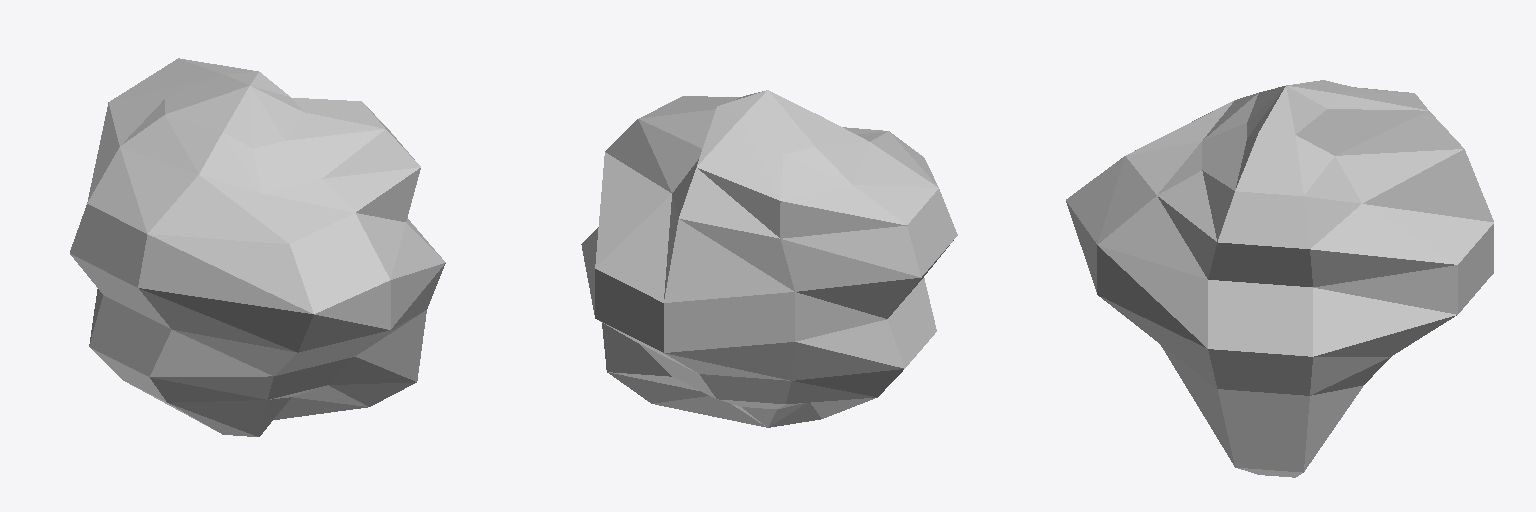
File: OreNugget.obj
The picture shows the model from 3 angles: view 1: azimuth 30°, elevation 25°; view 2: azimuth 150°, elevation 25°; view 3: azimuth 270°, elevation 25°; orthographic projection.
Visible parts, largest first — view 1: Sphere; view 2: Sphere; view 3: Sphere.
Boxes of the visible parts, box(x1,y1,x2,y2) form: Sphere: box(70, 58, 445, 436); Sphere: box(581, 90, 957, 427); Sphere: box(1066, 80, 1493, 477).
Size of the model in its own units: 2.48 by 2.35 by 2.7.